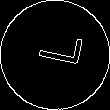L_W: (27, 35, 83, 75)
